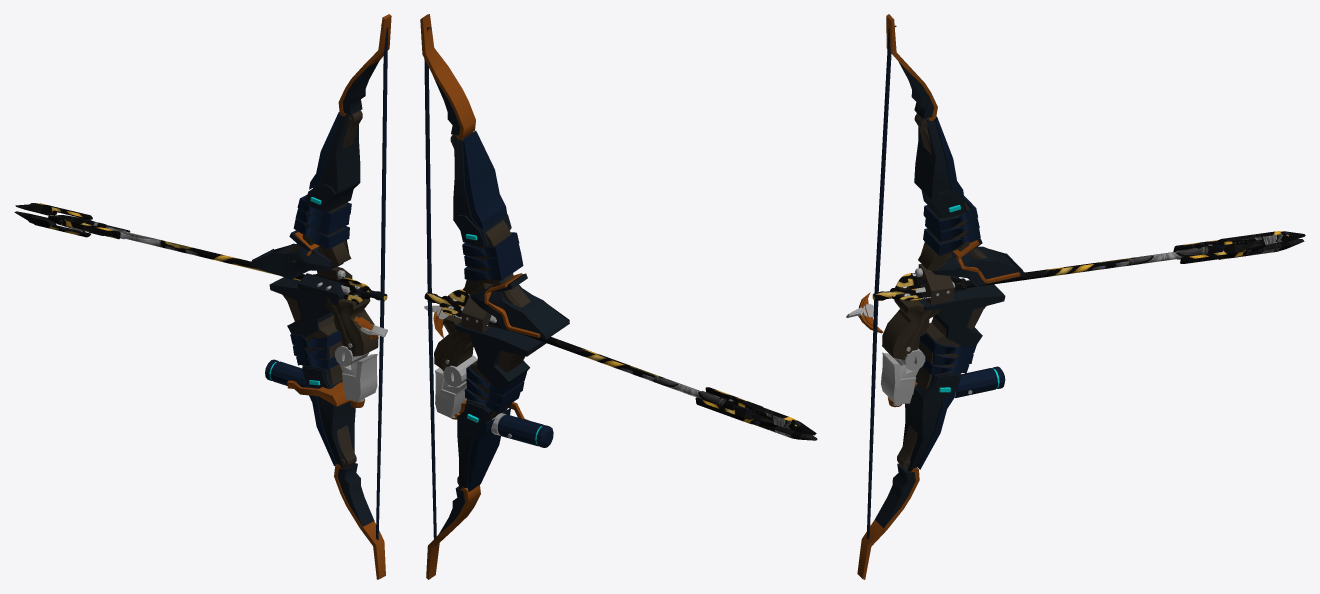
File: hanzo_weapon1.obj
The picture shows the model from 3 angles, left to right: view 1: azimuth 30°, elevation 25°; view 2: azimuth 210°, elevation 25°; view 3: azimuth 270°, elevation 25°; orthographic projection. The views are drawn at different scales.
Visible parts, largest first — view 1: pCube11_Untitled.029, pCube12_Untitled.004, pCube1_Untitled.010, pCylinder12_Untitled.035, pCube15_Untitled.005, Mesh_0399_Untitled.208, pCube6_Untitled.022, Mesh_0398_Untitled.293, pCube7_Untitled.008, pCube3_Untitled.002, polySurface4_Untitled.014, pCylinder4_Untitled.023 (+6 smaller); view 2: pCube11_Untitled.029, pCube12_Untitled.004, pCube1_Untitled.010, pCube15_Untitled.005, pCylinder12_Untitled.035, Mesh_0399_Untitled.208, Mesh_0398_Untitled.293, pCylinder4_Untitled.023, pCube6_Untitled.022, pCube7_Untitled.008, pCube13_Untitled.020, pCube10_Untitled.031 (+6 smaller); view 3: pCube11_Untitled.029, pCube12_Untitled.004, pCube1_Untitled.010, Mesh_0398_Untitled.293, pCylinder12_Untitled.035, Mesh_0399_Untitled.208, pCube6_Untitled.022, pCube15_Untitled.005, pCube7_Untitled.008, pCylinder4_Untitled.023, pCube3_Untitled.002, pCube10_Untitled.031 (+3 smaller).
Boxes of the visible parts, bbox=[...] form: pCube11_Untitled.029: bbox=[302, 112, 360, 468]; pCube12_Untitled.004: bbox=[334, 14, 391, 579]; pCube1_Untitled.010: bbox=[269, 273, 344, 337]; pCylinder12_Untitled.035: bbox=[376, 24, 387, 539]; pCube15_Untitled.005: bbox=[249, 230, 343, 279]; Mesh_0399_Untitled.208: bbox=[14, 203, 130, 239]; pCube6_Untitled.022: bbox=[324, 298, 378, 356]; Mesh_0398_Untitled.293: bbox=[91, 221, 387, 300]; pCube7_Untitled.008: bbox=[340, 354, 377, 401]; pCube3_Untitled.002: bbox=[302, 315, 342, 384]; polySurface4_Untitled.014: bbox=[287, 380, 364, 407]; pCylinder4_Untitled.023: bbox=[265, 359, 305, 387]; pCube11_Untitled.029: bbox=[453, 130, 511, 491]; pCube12_Untitled.004: bbox=[420, 14, 480, 579]; pCube1_Untitled.010: bbox=[455, 321, 546, 388]; pCube15_Untitled.005: bbox=[470, 273, 569, 340]; pCylinder12_Untitled.035: bbox=[424, 27, 436, 545]; Mesh_0399_Untitled.208: bbox=[695, 387, 817, 440]; Mesh_0398_Untitled.293: bbox=[424, 292, 736, 409]; pCylinder4_Untitled.023: bbox=[491, 413, 553, 447]; pCube6_Untitled.022: bbox=[434, 315, 473, 370]; pCube7_Untitled.008: bbox=[435, 367, 466, 417]; pCube13_Untitled.020: bbox=[462, 220, 511, 294]; pCube10_Untitled.031: bbox=[461, 295, 491, 332]; pCube11_Untitled.029: bbox=[902, 116, 966, 472]; pCube12_Untitled.004: bbox=[857, 14, 937, 579]; pCube1_Untitled.010: bbox=[919, 276, 1005, 347]; Mesh_0398_Untitled.293: bbox=[872, 244, 1215, 300]; pCylinder12_Untitled.035: bbox=[866, 25, 896, 539]; Mesh_0399_Untitled.208: bbox=[1173, 231, 1305, 263]; pCube6_Untitled.022: bbox=[882, 299, 940, 359]; pCube15_Untitled.005: bbox=[931, 238, 1024, 286]; pCube7_Untitled.008: bbox=[881, 352, 919, 404]; pCylinder4_Untitled.023: bbox=[954, 366, 1005, 397]; pCube3_Untitled.002: bbox=[915, 316, 961, 389]; pCube10_Untitled.031: bbox=[918, 264, 954, 304].
Size of the model in its own units: 1.1 by 3.21 by 2.34.
